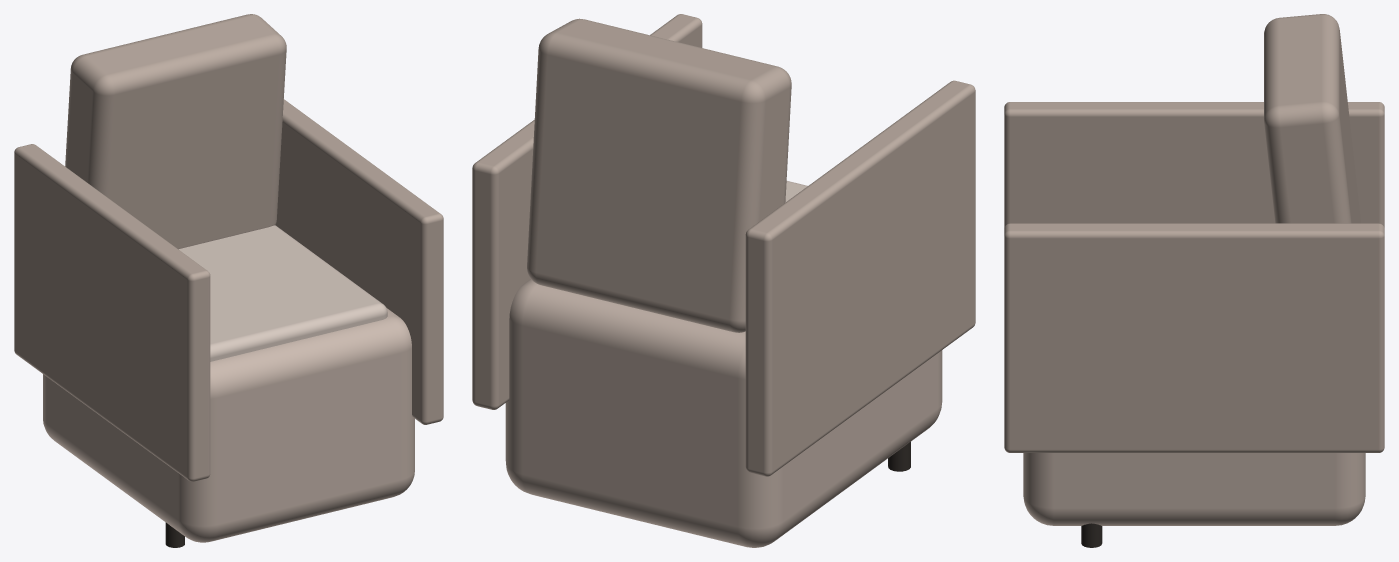
File: mr-nils.glb
The picture shows the model from 3 angles, left to right: view 1: azimuth 30°, elevation 25°; view 2: azimuth 150°, elevation 25°; view 3: azimuth 270°, elevation 25°; orthographic projection. The views are drawn at different scales.
Parts seen in each view (by area): view 1: seat-base, arm-left, back-cushion-1, arm-right, seat-cushion-1; view 2: back-cushion-1, seat-base, arm-left, arm-right; view 3: arm-right, arm-left, seat-base, back-cushion-1, foot-right.
Boxes of the visible parts, x1=… form: seat-base: x1=43, y1=308, x2=414, y2=542; arm-left: x1=14, y1=144, x2=210, y2=481; back-cushion-1: x1=65, y1=14, x2=286, y2=249; arm-right: x1=275, y1=99, x2=443, y2=424; seat-cushion-1: x1=178, y1=225, x2=387, y2=361; back-cushion-1: x1=527, y1=18, x2=791, y2=332; seat-base: x1=505, y1=279, x2=942, y2=547; arm-left: x1=745, y1=80, x2=975, y2=476; arm-right: x1=472, y1=14, x2=702, y2=409; arm-right: x1=1004, y1=223, x2=1384, y2=452; arm-left: x1=1004, y1=102, x2=1384, y2=227; seat-base: x1=1023, y1=453, x2=1365, y2=525; back-cushion-1: x1=1264, y1=14, x2=1360, y2=223; foot-right: x1=1081, y1=523, x2=1102, y2=547.
Bounding box in the file's own units: 0.721 × 1.09 × 0.87.
